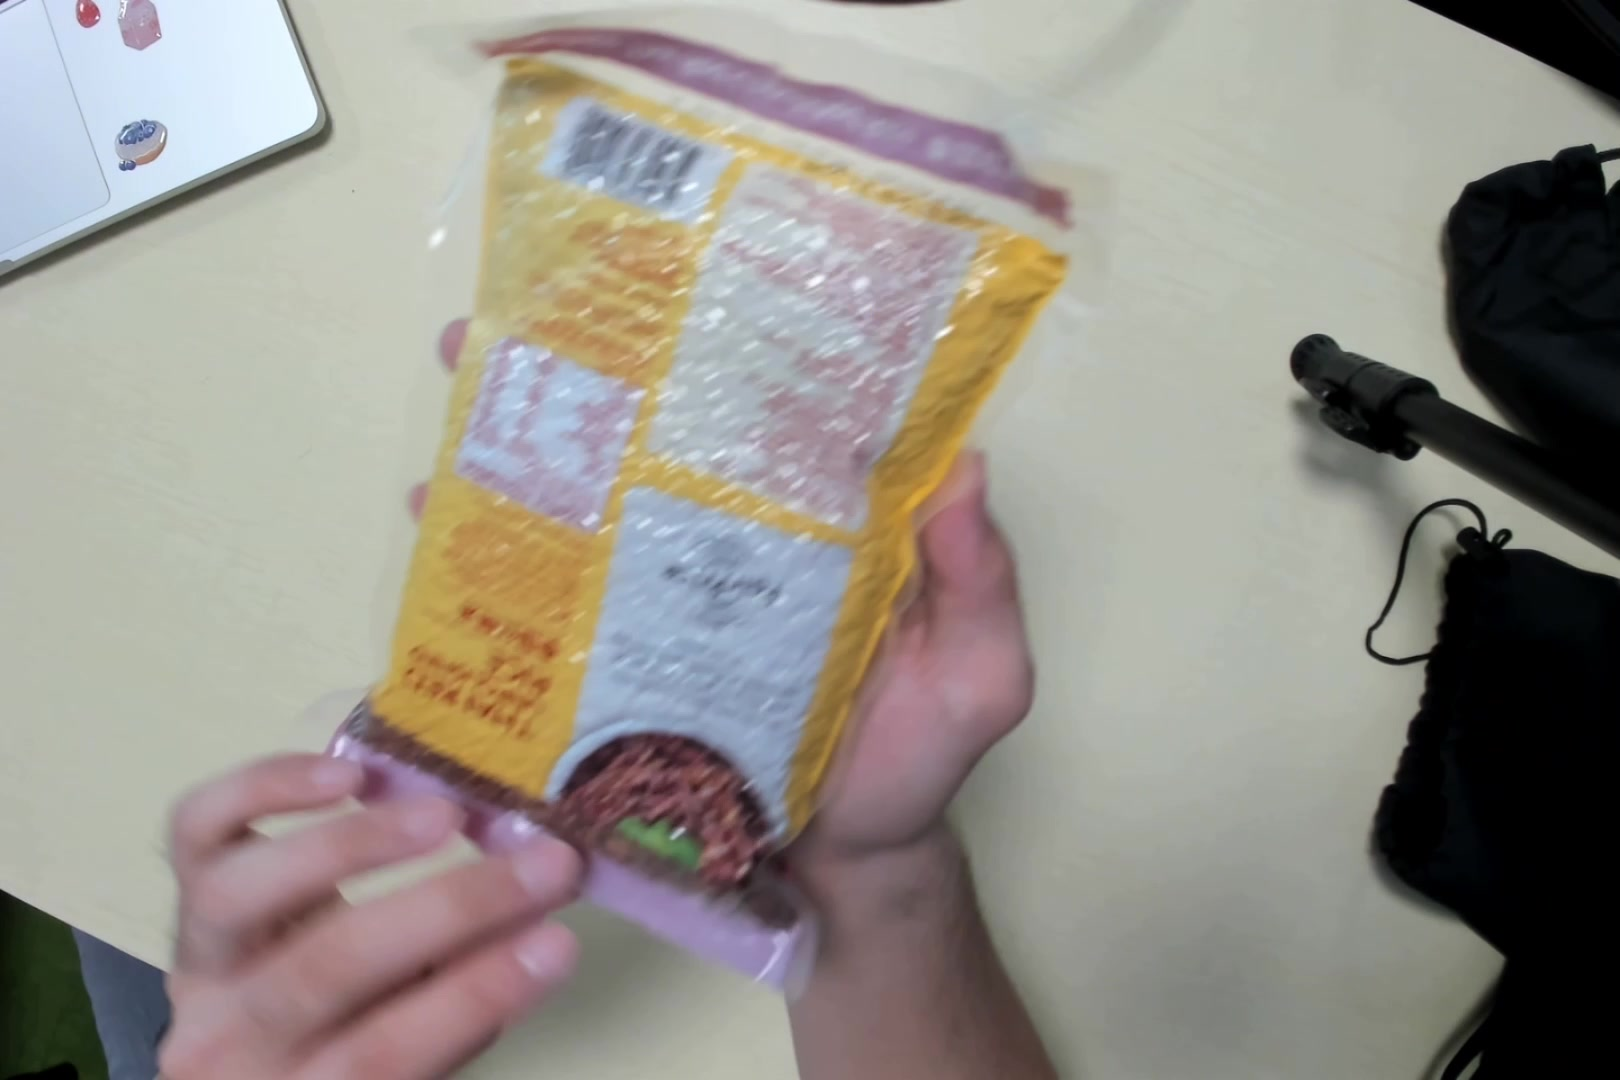Rice(BrownOthers)_500-599g_NonHalal_Healthy: (369, 18, 1111, 972)
